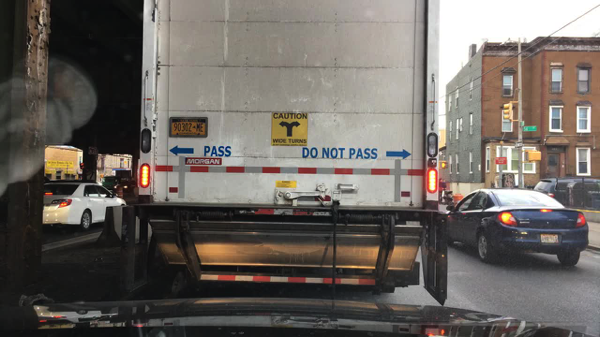car: (442, 188, 588, 267), (39, 179, 128, 234), (533, 177, 599, 210), (119, 179, 139, 197)
person: (437, 177, 446, 205)
traffic light: (524, 151, 542, 164), (501, 103, 511, 121), (440, 162, 448, 169), (79, 162, 85, 170)
traffic sign: (86, 169, 98, 180), (87, 146, 98, 156), (494, 157, 508, 164), (521, 126, 536, 132), (437, 151, 442, 156)
truck: (118, 0, 447, 308), (103, 175, 120, 190)
